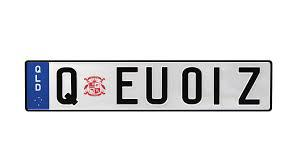E: (115, 65, 140, 105)
I: (210, 65, 223, 107)
O: (179, 65, 204, 106)
Q: (55, 64, 80, 106)
U: (144, 65, 171, 105)
Z: (235, 65, 263, 106)
